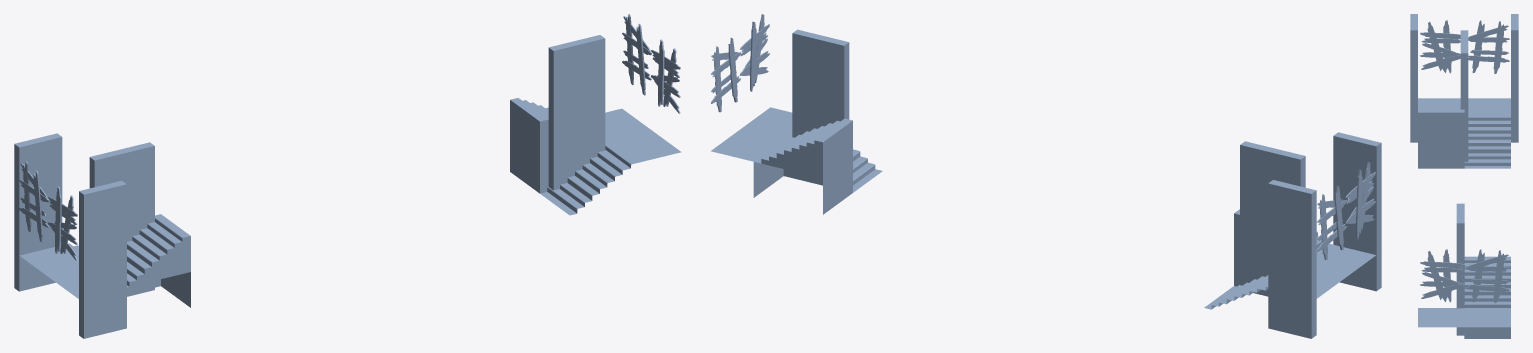
File: Stairwells.fbx
The picture shows the model from 3 angles, left to right: view 1: azimuth 30°, elevation 25°; view 2: azimuth 150°, elevation 25°; view 3: azimuth 270°, elevation 25°; orthographic projection. The views are drawn at different scales.
Visible parts, largest first — view 1: stairHall10, walls77, walls58, stairHall9, walls57, walls75, Dining_table_v01:Dining_table_v01:left1, left3, left2, Dining_table_v01:Dining_table_v01:left2; view 2: stairHall10, walls57, walls77, walls75, walls58, stairHall9, left2, Dining_table_v01:Dining_table_v01:left2, left3, Dining_table_v01:Dining_table_v01:left1; view 3: stairHall9, stairHall10, left3, Dining_table_v01:Dining_table_v01:left1, left2, Dining_table_v01:Dining_table_v01:left2, walls57, walls58, walls75, walls77.
Part boxes in pixels (x1,y1,x2,y2): stairHall10: [510, 98, 681, 215]; walls77: [548, 35, 605, 190]; walls58: [79, 180, 126, 338]; stairHall9: [19, 214, 190, 307]; walls57: [14, 133, 62, 291]; walls75: [89, 142, 154, 296]; Dining_table_v01:Dining_table_v01:left1: [48, 186, 77, 260]; left3: [651, 39, 680, 113]; left2: [622, 14, 651, 95]; Dining_table_v01:Dining_table_v01:left2: [19, 161, 48, 242]; stairHall10: [711, 107, 882, 214]; walls57: [1268, 180, 1316, 338]; walls77: [792, 29, 849, 185]; walls75: [1240, 141, 1305, 296]; walls58: [1333, 132, 1381, 291]; stairHall9: [1204, 209, 1375, 309]; left2: [711, 37, 740, 112]; Dining_table_v01:Dining_table_v01:left2: [1317, 185, 1346, 259]; left3: [739, 14, 769, 91]; Dining_table_v01:Dining_table_v01:left1: [1346, 162, 1375, 239]; stairHall9: [1418, 98, 1510, 168]; stairHall10: [1418, 256, 1510, 338]; left3: [1420, 249, 1465, 302]; Dining_table_v01:Dining_table_v01:left1: [1419, 20, 1460, 73]; left2: [1464, 249, 1509, 303]; Dining_table_v01:Dining_table_v01:left2: [1468, 20, 1509, 73]; walls57: [1511, 14, 1518, 142]; walls58: [1410, 14, 1417, 142]; walls75: [1460, 30, 1468, 161]; walls77: [1456, 203, 1464, 335].
Size of the model in its own units: 3520 by 800 by 700.
